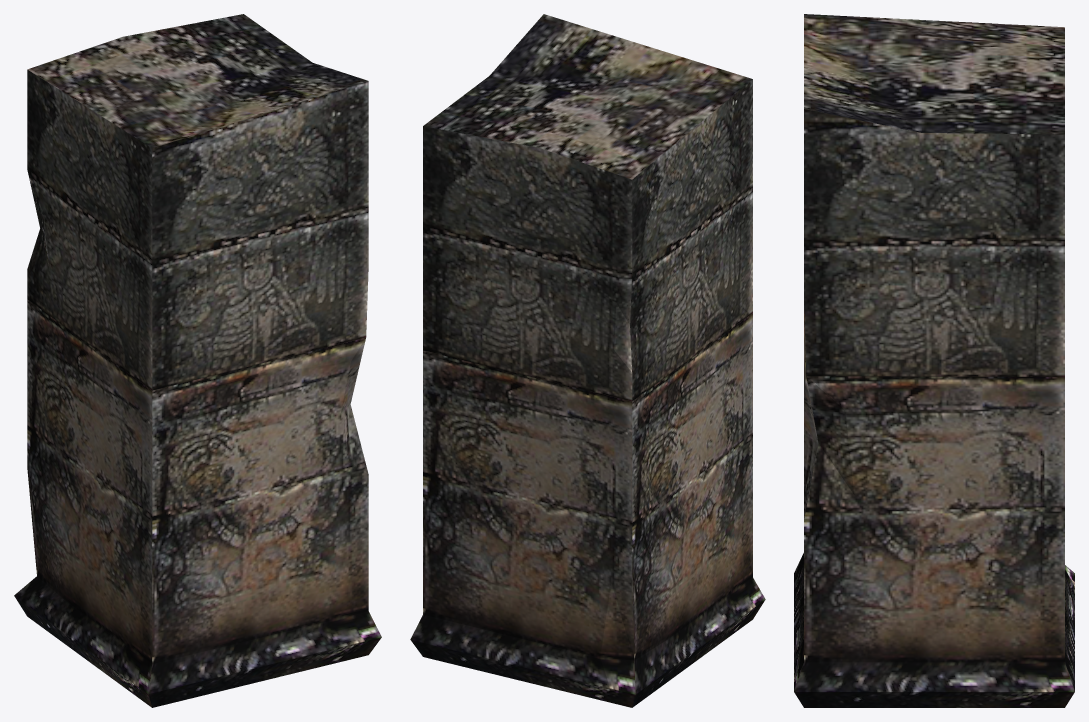
The model's file is Desert_obj03.FBX.
The picture shows the model from 3 angles, left to right: view 1: azimuth 30°, elevation 25°; view 2: azimuth 150°, elevation 25°; view 3: azimuth 270°, elevation 25°; orthographic projection. The views are drawn at different scales.
Parts seen in each view (by area): view 1: 04; view 2: 04; view 3: 04.
Part boxes in pixels (x1,y1,x2,y2): 04: (14, 14, 381, 707); 04: (410, 14, 765, 707); 04: (794, 14, 1074, 707).
Size of the model in its own units: 115 by 271 by 115.
1 material, 1 textured.
